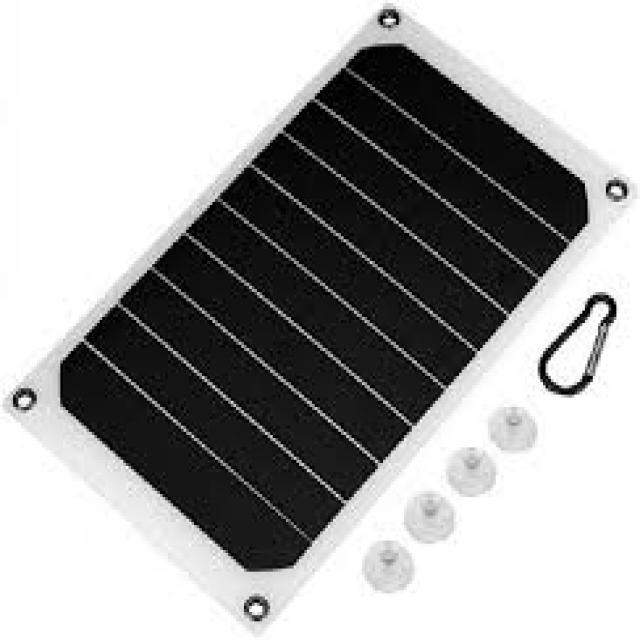no faulty: (52, 38, 591, 579)
